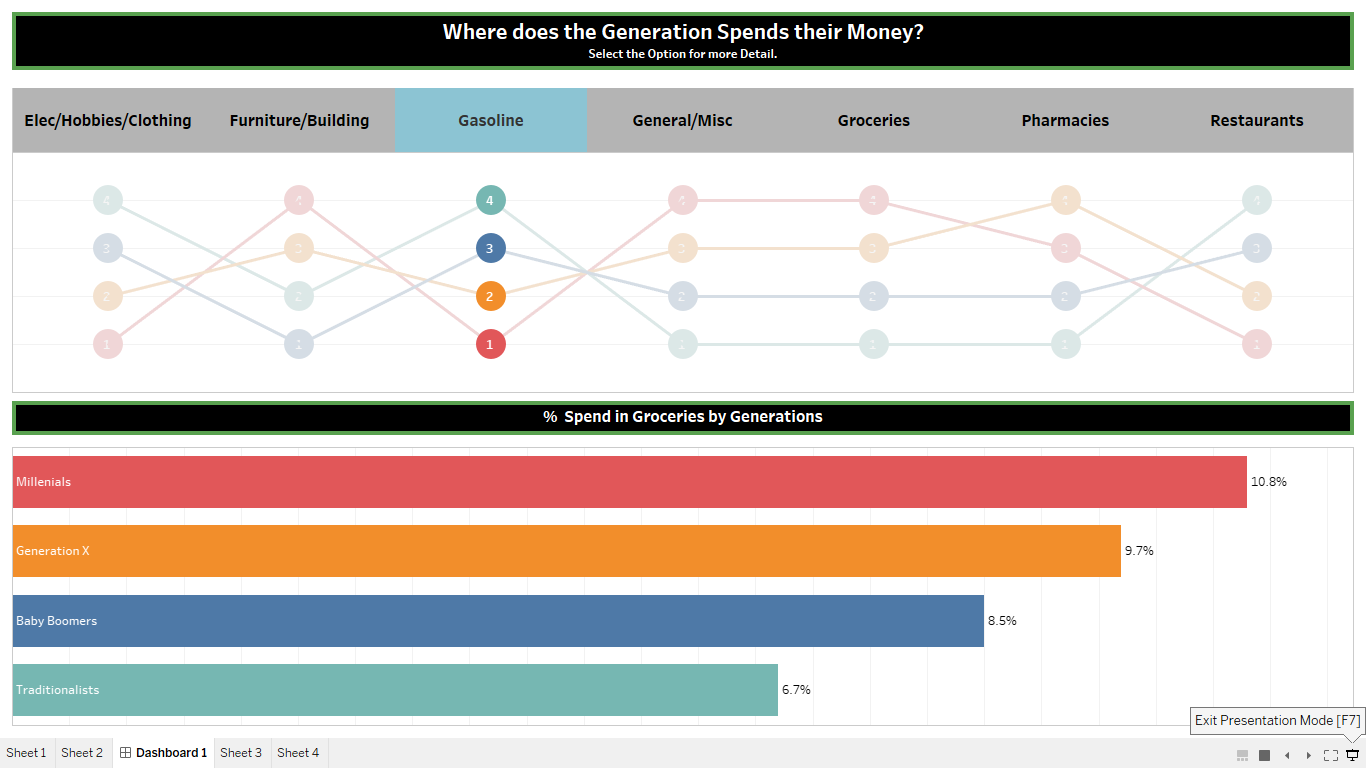

The dashboard page shown, as its layout file describes it:
{"tool":"tableau","page":{"name":"Dashboard 1","canvas":[1000,1000],"units":"permille","ordinal":0},"visuals":[{"type":"worksheet","title":"Sheet 3","mark":"Automatic","box":[6.9,13.3,986.1,102.9]},{"type":"worksheet","title":"Sheet 1","mark":"Line","cols":["Category"],"box":[6.9,116.2,986.1,421.9]},{"type":"worksheet","title":"Sheet 4","mark":"Automatic","box":[6.9,538.1,986.1,61.5]},{"type":"worksheet","title":"Sheet 2","mark":"Bar","rows":["Category","Generation"],"cols":["% of Spending","% of Spending"],"box":[6.9,599.5,986.1,387.2]}]}

Visuals, with their boxes on the dashboard's canvas, which has no fixed pixel size, in thousandths of its width and height (x1, y1, x2, y2). These are canvas units, not pixel positions in the 1366x768 screenshot, which may show the page scaled, cropped or inside an application window:
"Sheet 3" worksheet: (7,13,993,116)
"Sheet 1" worksheet (Line marks): (7,116,993,538)
"Sheet 4" worksheet: (7,538,993,600)
"Sheet 2" worksheet (Bar marks): (7,600,993,987)
